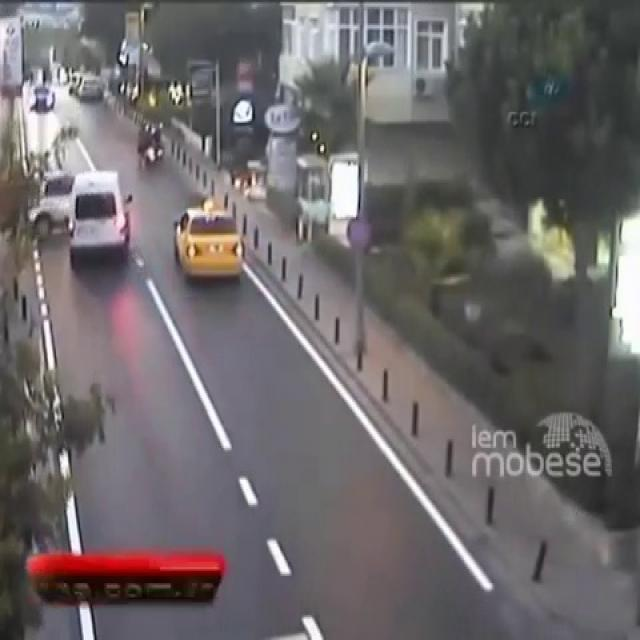accident: (21, 153, 136, 265)
